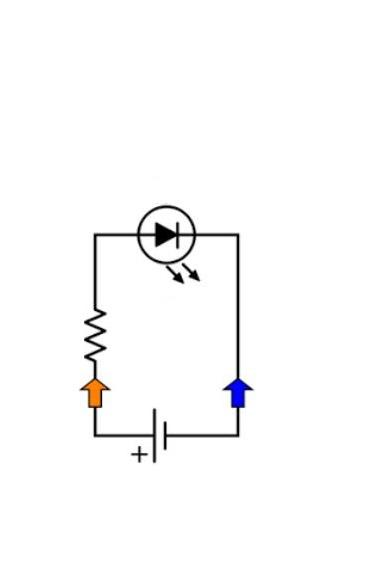resistor: (70, 297, 116, 367)
